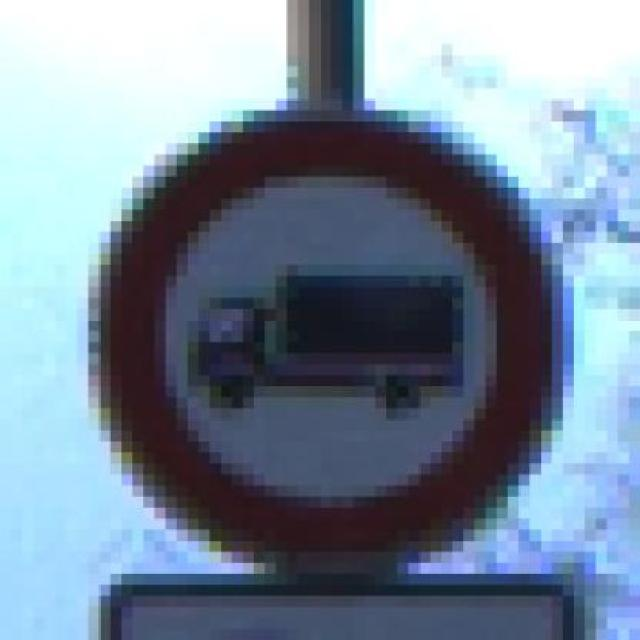Truck traffic is prohibited: (77, 99, 574, 575)
